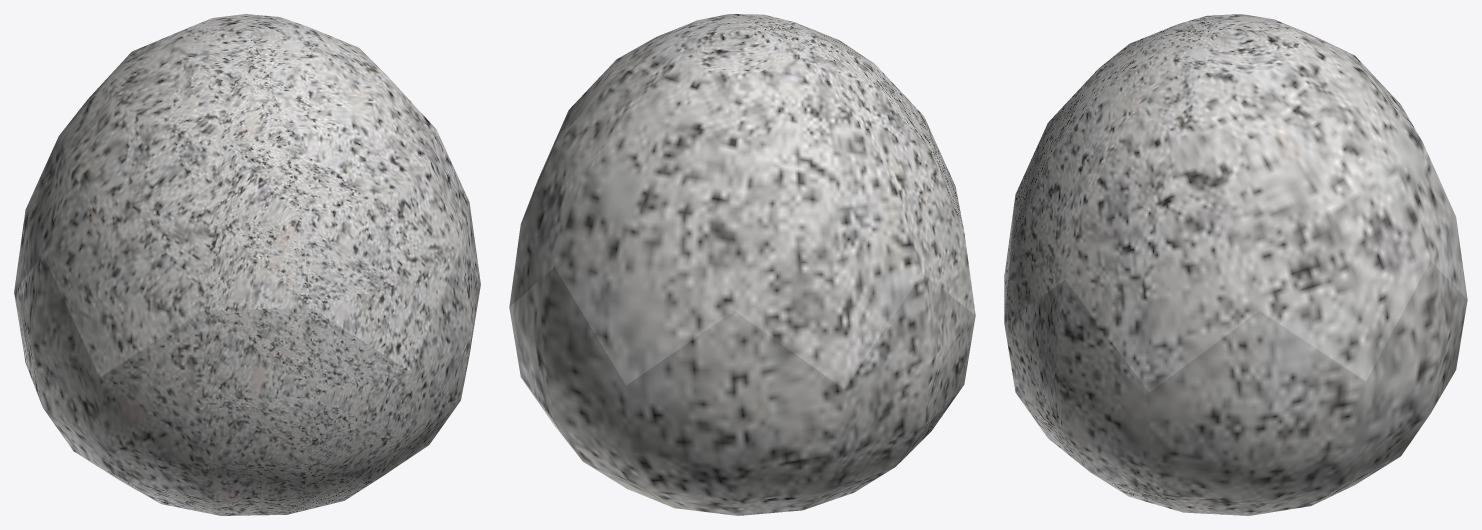
File: egg.fbx
3 renders of one model, left to right at view 1: azimuth 30°, elevation 25°; view 2: azimuth 150°, elevation 25°; view 3: azimuth 270°, elevation 25°, orthographic.
Visible parts, largest first — view 1: eggUp, eggDown; view 2: eggUp, eggDown; view 3: eggUp, eggDown.
Part boxes in pixels (x1,y1,x2,y2): eggUp: (14, 14, 480, 376); eggDown: (14, 248, 480, 515); eggUp: (509, 14, 975, 388); eggDown: (509, 267, 975, 515); eggUp: (1004, 14, 1467, 392); eggDown: (1004, 197, 1467, 515).
Bounding box in the file's own units: 1.99 × 2.16 × 1.97.
Materials: 1 (1 with a texture image).
